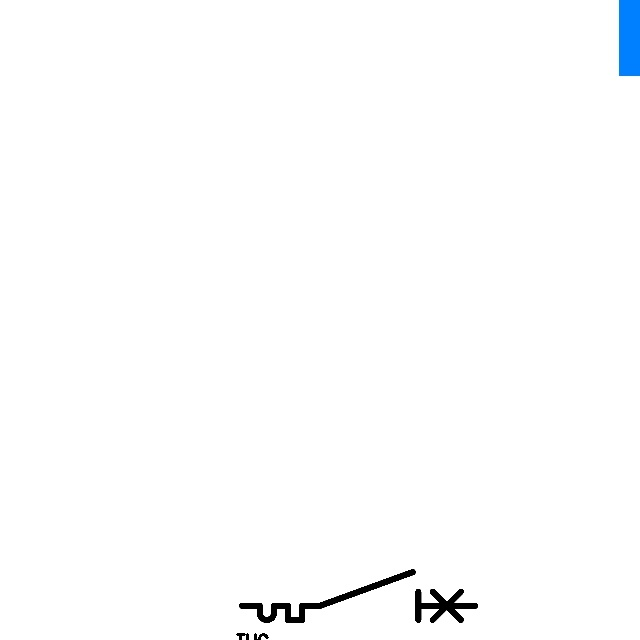interruptor_termomagnetico: (236, 566, 481, 626)
